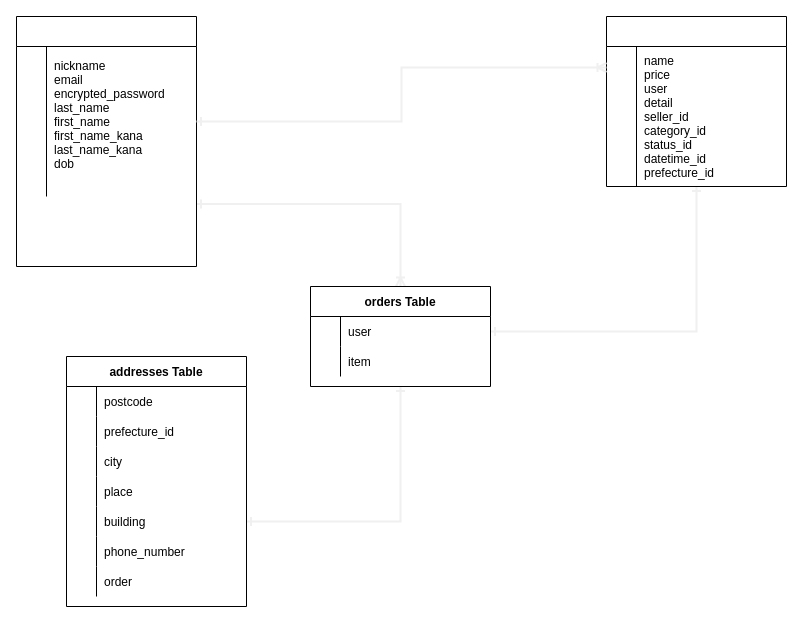
The diagram is 803 pixels wide and 623 high, and some of its shapes have lost their labels. Here are the shapes that lost their labels. From the top down, the box of each, then its label:
(606, 16, 786, 186): items Table
(16, 16, 196, 266): users Table
